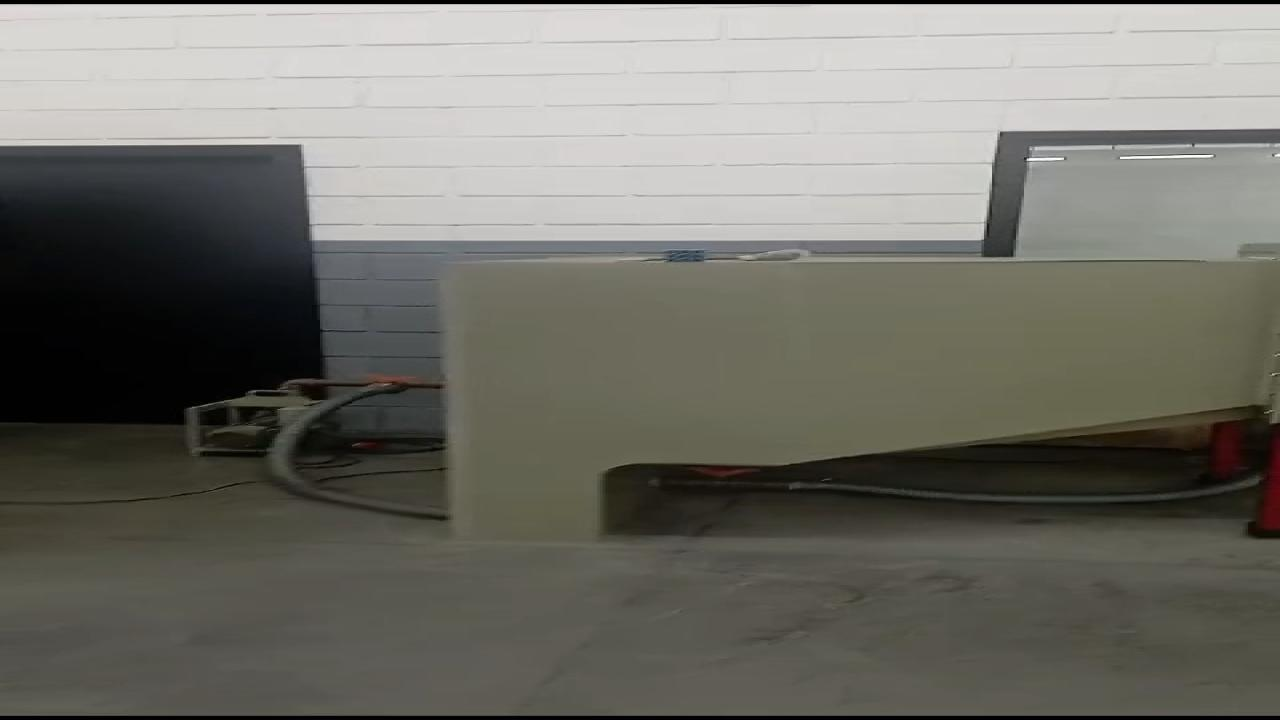Cube: (653, 248, 720, 268)
